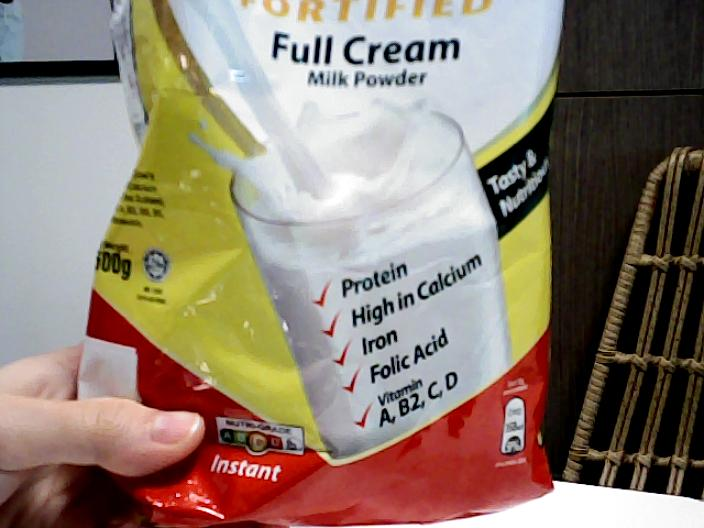Adult_Milk_600-699g_Halal_NonHealthy: (88, 1, 551, 528)
